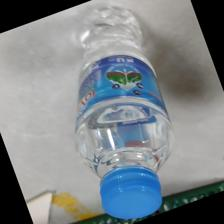Lavie: (68, 2, 179, 222)
